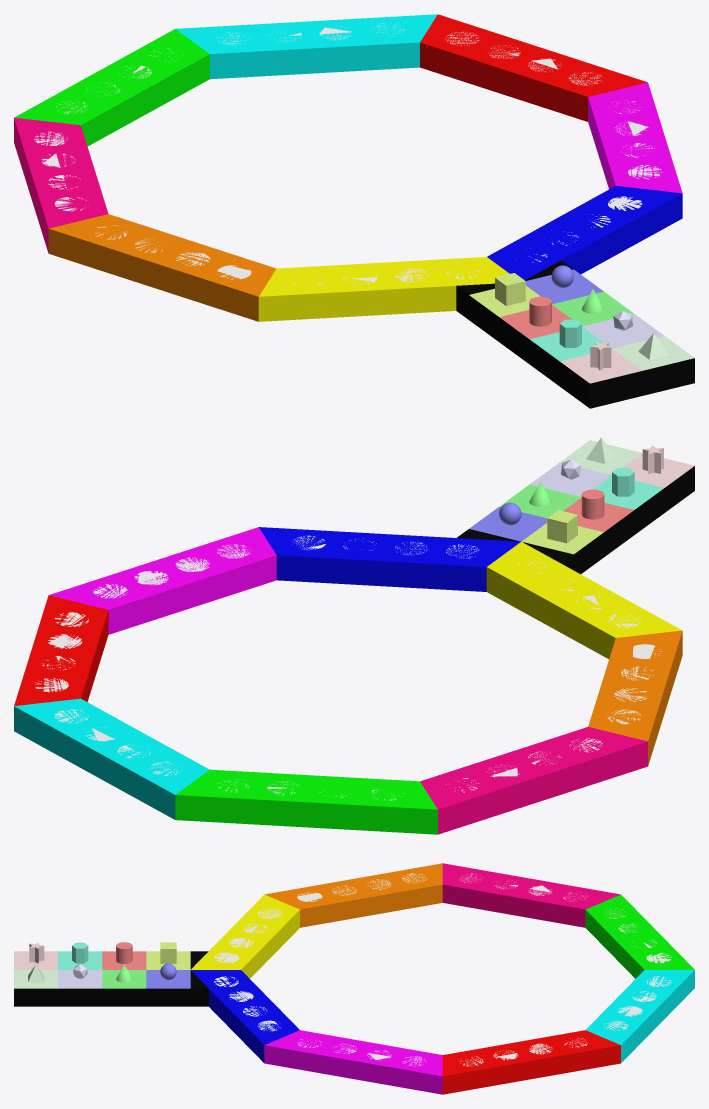
Rendered from GameBoard.fbx.
3 renders of one model, top to bottom at view 1: azimuth 30°, elevation 25°; view 2: azimuth 150°, elevation 25°; view 3: azimuth 270°, elevation 25°, orthographic. The views are drawn at different scales.
Visible parts, largest first — view 1: GameBoard, Player_6_position, Player_7_position, Player_2_position, Player_4_position, Player_8_position, Player_5_position, Player_3_position, Player_1_position, Player_1, Player_3, Player_5; view 2: GameBoard, Player_6_position, Player_2_position, Player_4_position, Player_8_position, Player_7_position, Player_1_position, Player_5_position, Player_3_position, Player_1, Player_3, Player_5; view 3: GameBoard, Player_6_position, Player_2_position, Player_4_position, Player_8_position, Player_7_position, Player_3_position, Player_5_position, Player_1_position, Player_1.
Boxes of the visible parts, x1,y1,x2,y2 form: GameBoard: (14,14,694,408); Player_6_position: (582,313,664,348); Player_7_position: (560,349,641,383); Player_2_position: (525,269,603,304); Player_4_position: (552,291,633,326); Player_8_position: (612,336,694,370); Player_5_position: (530,327,611,361); Player_3_position: (499,305,571,339); Player_1_position: (469,285,540,316); Player_1: (495,273,525,305); Player_3: (529,296,551,326); Player_5: (559,319,581,347); GameBoard: (14,466,694,834); Player_6_position: (530,462,611,496); Player_2_position: (469,506,547,541); Player_4_position: (499,484,581,518); Player_8_position: (560,440,641,474); Player_7_position: (622,453,694,487); Player_1_position: (522,523,603,554); Player_5_position: (593,475,663,509); Player_3_position: (563,498,633,531); Player_1: (547,510,577,543); Player_3: (581,489,604,519); Player_5: (612,468,634,496); GameBoard: (14,863,694,1094); Player_6_position: (58,970,102,988); Player_2_position: (146,970,190,988); Player_4_position: (102,970,146,988); Player_8_position: (14,970,57,988); Player_7_position: (14,951,57,969); Player_3_position: (102,951,146,969); Player_5_position: (58,951,102,969); Player_1_position: (146,951,190,969); Player_1: (160,942,176,963).
Size of the model in its own units: 54 by 40 by 2.9.
